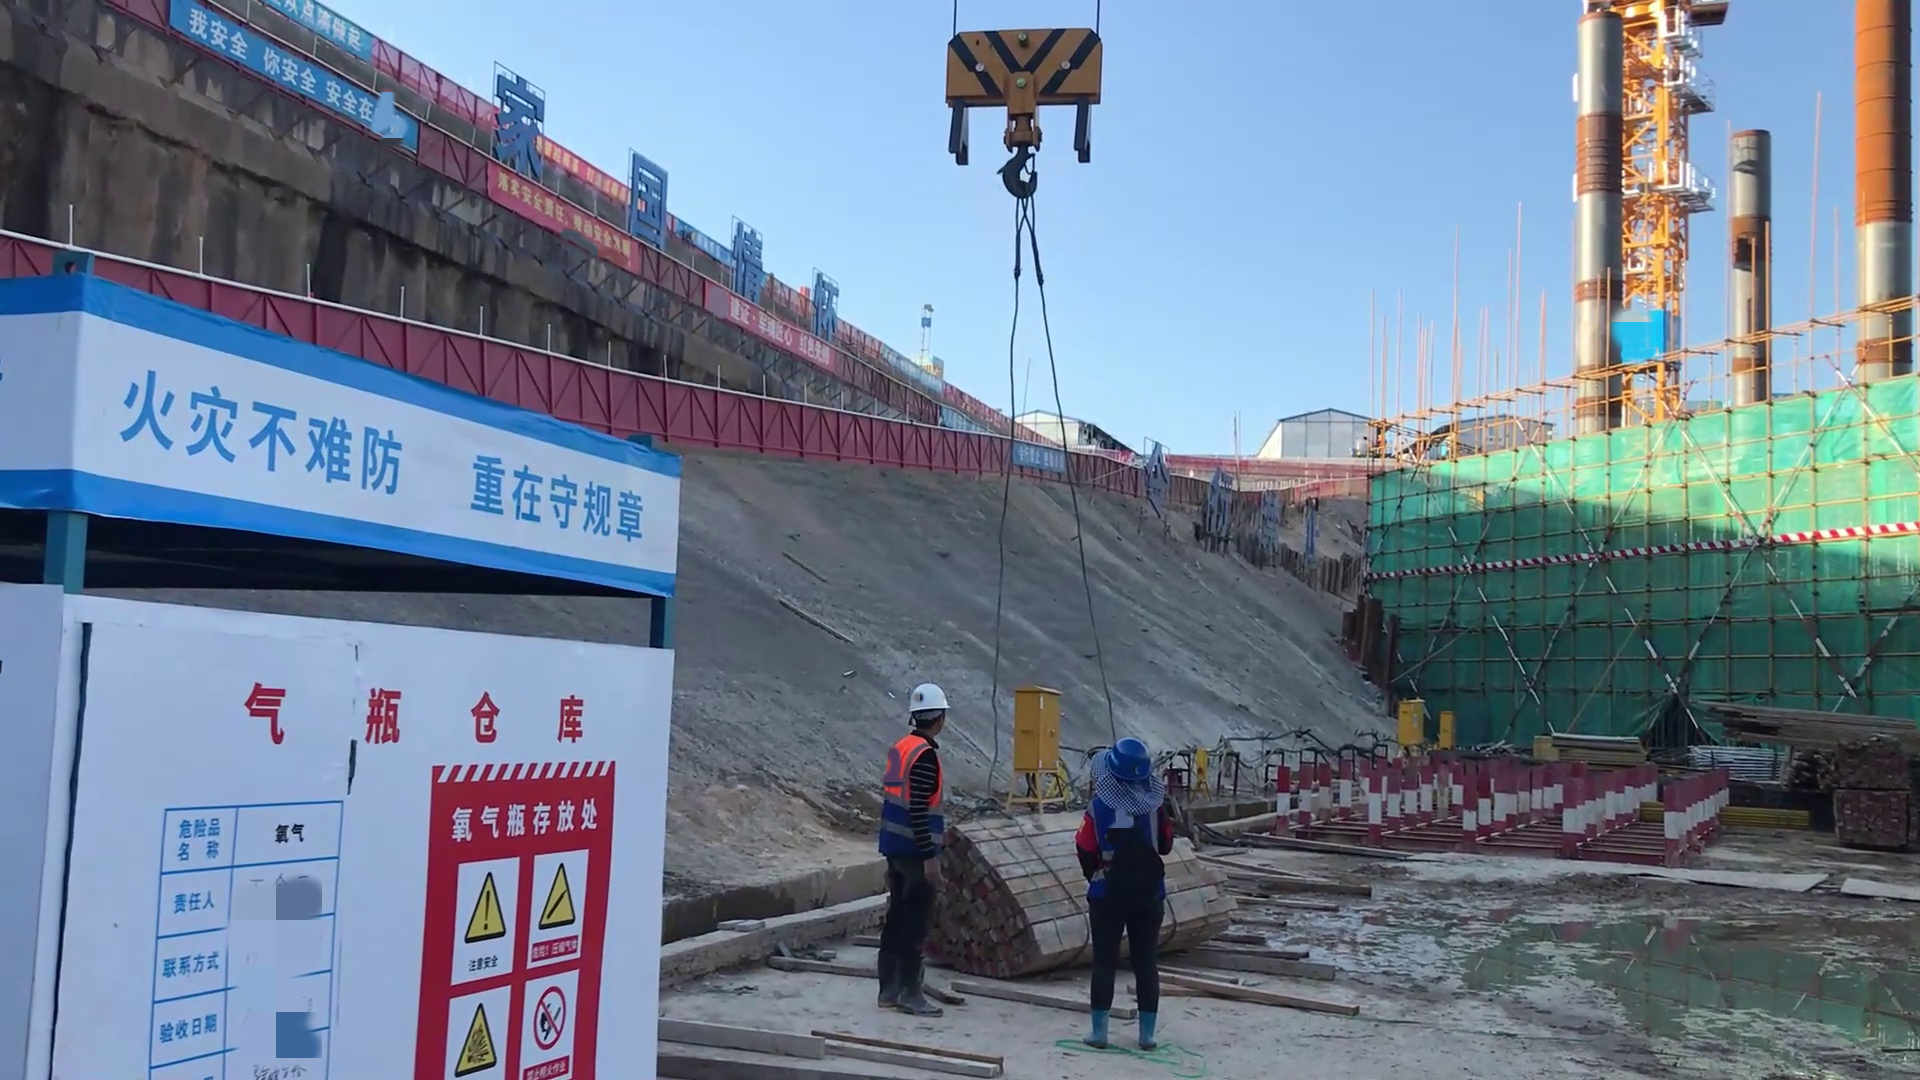ebox: (1011, 681, 1067, 778), (1391, 694, 1432, 749), (1435, 707, 1453, 753)
fence: (700, 383, 886, 474), (888, 415, 1011, 475)
hook: (928, 19, 1114, 179)
person: (1077, 723, 1166, 1053), (875, 676, 955, 1009)
slogan: (110, 354, 644, 549), (173, 1, 451, 198), (425, 835, 595, 1080), (462, 145, 662, 305)
vest: (880, 734, 936, 851)
wood: (952, 818, 1075, 987), (1703, 696, 1920, 782)
